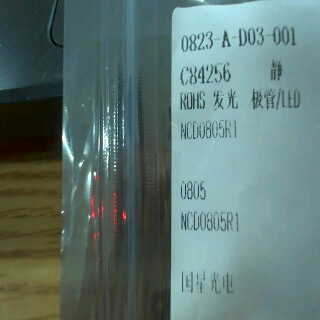LED: (210, 86, 306, 115)
